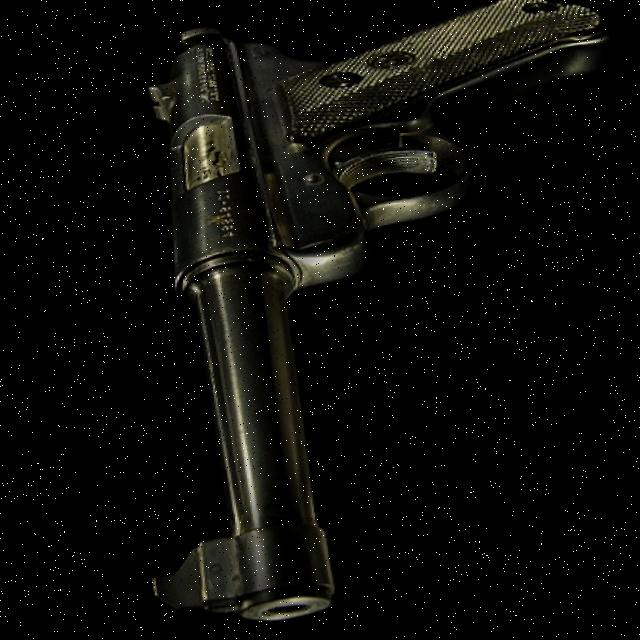pistol: (108, 0, 616, 629)
